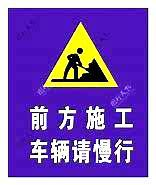sign: (9, 8, 147, 176)
